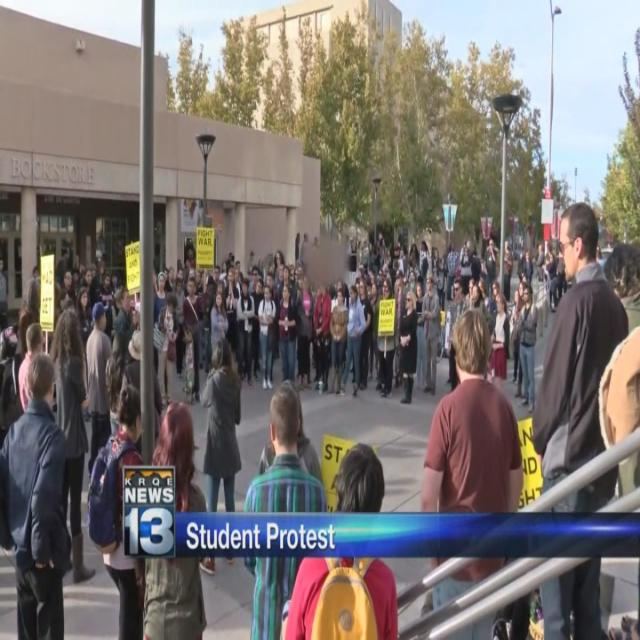body: (528, 195, 634, 639), (416, 303, 526, 639), (283, 441, 400, 640), (0, 348, 76, 639), (244, 385, 329, 639), (140, 402, 209, 640), (88, 382, 145, 639), (51, 306, 97, 584), (198, 338, 244, 578), (104, 384, 147, 577), (257, 382, 325, 491), (84, 300, 115, 480), (119, 326, 162, 452), (336, 284, 367, 396), (152, 291, 180, 413), (22, 248, 75, 311), (18, 320, 52, 416), (516, 286, 539, 414), (182, 276, 205, 403), (377, 284, 399, 401), (326, 286, 349, 396), (344, 233, 407, 272), (116, 286, 139, 391), (421, 272, 440, 396), (376, 279, 396, 396), (235, 276, 256, 387), (450, 278, 470, 392), (399, 289, 418, 406), (313, 280, 332, 394), (257, 284, 277, 392), (276, 283, 297, 384), (295, 275, 312, 392), (393, 269, 409, 389), (357, 278, 374, 390), (490, 293, 511, 381), (249, 278, 266, 383), (233, 250, 285, 284), (178, 252, 233, 284), (514, 280, 528, 398), (173, 277, 188, 380), (105, 279, 126, 350), (508, 287, 522, 385), (199, 286, 212, 376), (368, 283, 380, 380), (210, 293, 228, 356), (75, 286, 94, 344), (75, 248, 104, 286), (1, 315, 26, 356), (224, 267, 240, 330), (446, 240, 461, 301), (483, 237, 498, 297), (414, 282, 425, 362), (152, 272, 168, 326), (546, 252, 560, 310), (501, 238, 513, 305), (416, 282, 425, 366), (300, 230, 312, 289), (0, 258, 9, 330), (436, 256, 447, 314), (459, 246, 471, 298), (98, 271, 115, 307), (278, 264, 294, 302), (544, 241, 555, 296), (556, 244, 566, 304), (471, 284, 487, 320), (310, 235, 322, 279), (478, 276, 492, 313), (516, 245, 526, 294), (470, 250, 483, 286), (419, 240, 430, 281), (357, 268, 391, 281), (273, 262, 284, 300), (536, 242, 546, 282), (106, 304, 117, 338), (523, 250, 533, 284), (288, 263, 301, 287), (465, 278, 475, 309), (432, 247, 441, 280), (162, 266, 173, 292), (165, 266, 175, 294), (408, 242, 419, 267), (294, 230, 301, 268), (406, 270, 417, 294), (491, 280, 502, 303), (461, 238, 473, 256), (356, 281, 374, 291), (327, 280, 336, 298), (310, 275, 318, 295), (152, 267, 158, 291)
